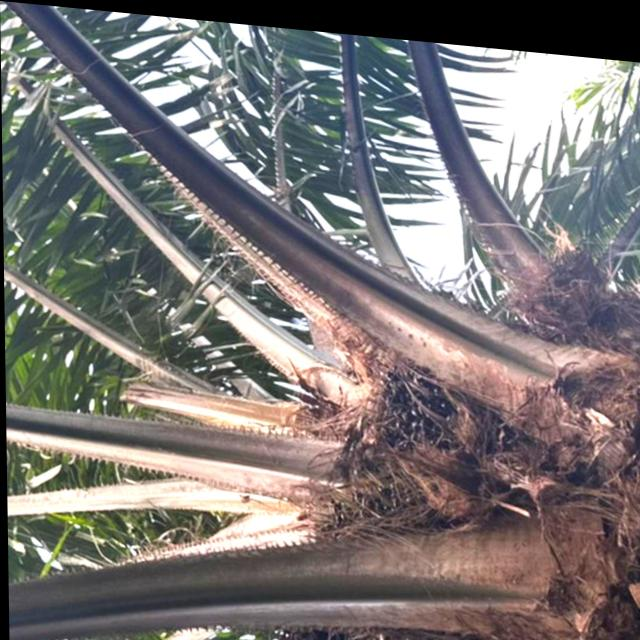unripe: (371, 341, 464, 460)
